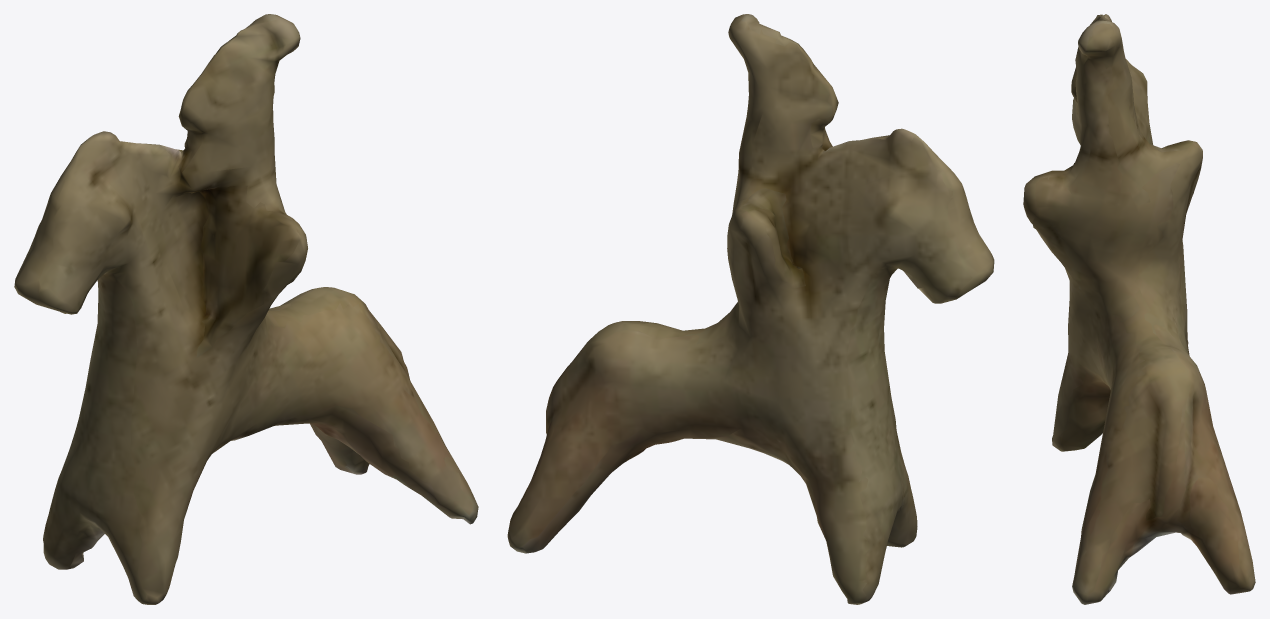
Rendered from sf-fitzwilliam-horse-rider.lod1.glb.
3 renders of one model, left to right at view 1: azimuth 30°, elevation 25°; view 2: azimuth 150°, elevation 25°; view 3: azimuth 270°, elevation 25°, orthographic. The views are drawn at different scales.
Visible parts, largest first — view 1: Object_2; view 2: Object_2; view 3: Object_2.
Part boxes in pixels (x1,y1,x2,y2): Object_2: (14,14,478,604); Object_2: (507,14,994,604); Object_2: (1023,14,1255,604).
Size of the model in its own units: 0.1123 by 0.13 by 0.0547.
1 material, 1 textured.
